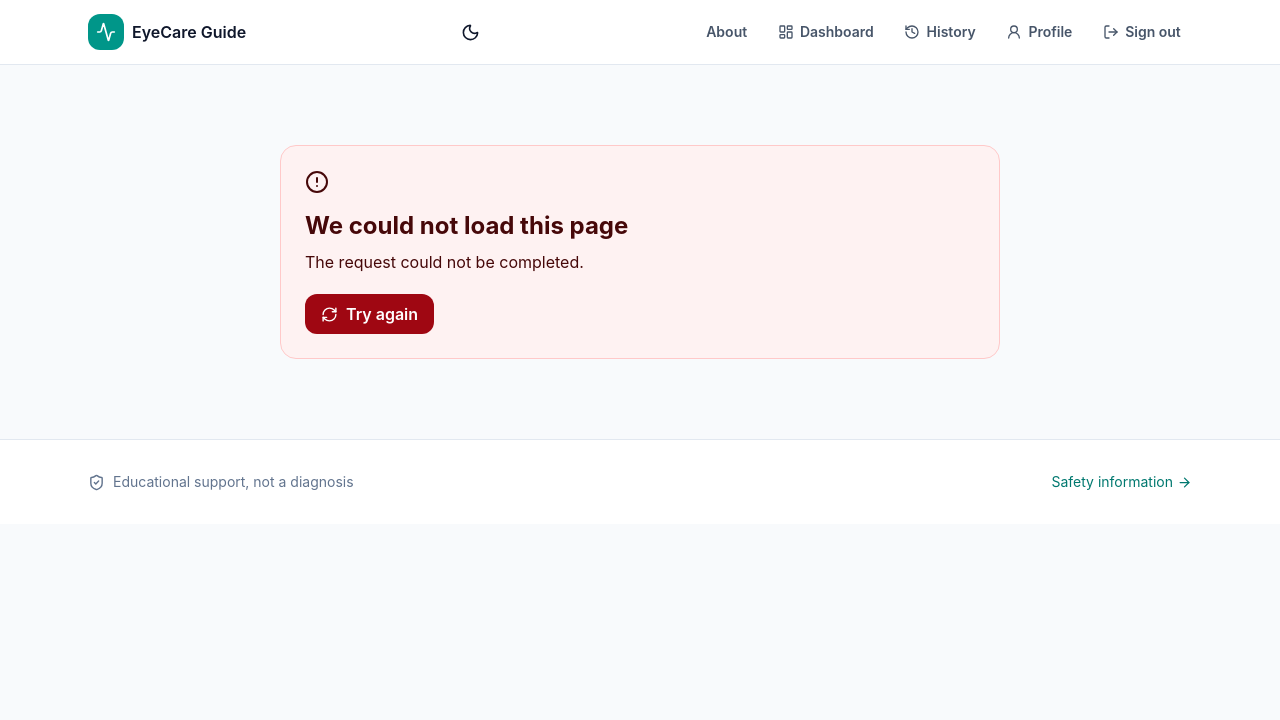
Test: App authentication experience › announces a history API failure and recovers through the retry control
The image size is (1280, 720).
Expected: the message shows "We could not load this page", [305,211,628,240]
Click the button "Try again".
click(370, 314)  # box [305,294,434,334]
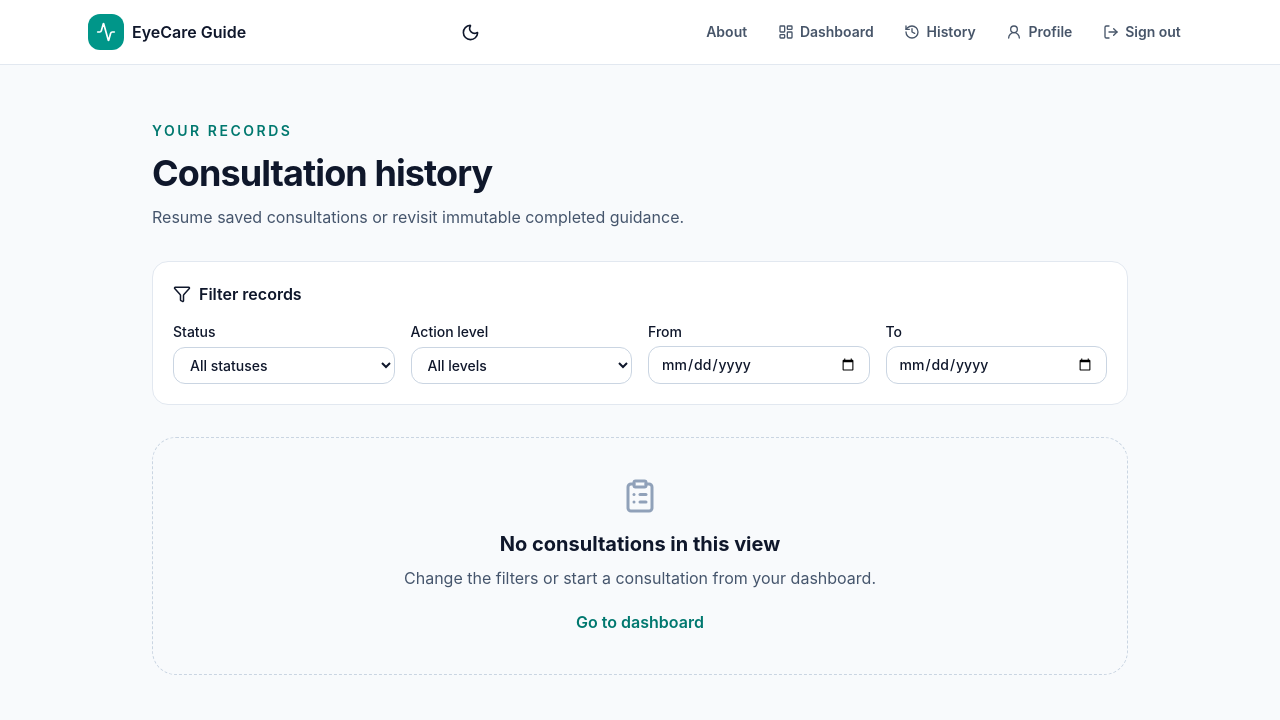
Now the heading "No consultations in this view" is shown, box [500,532,780,556]
